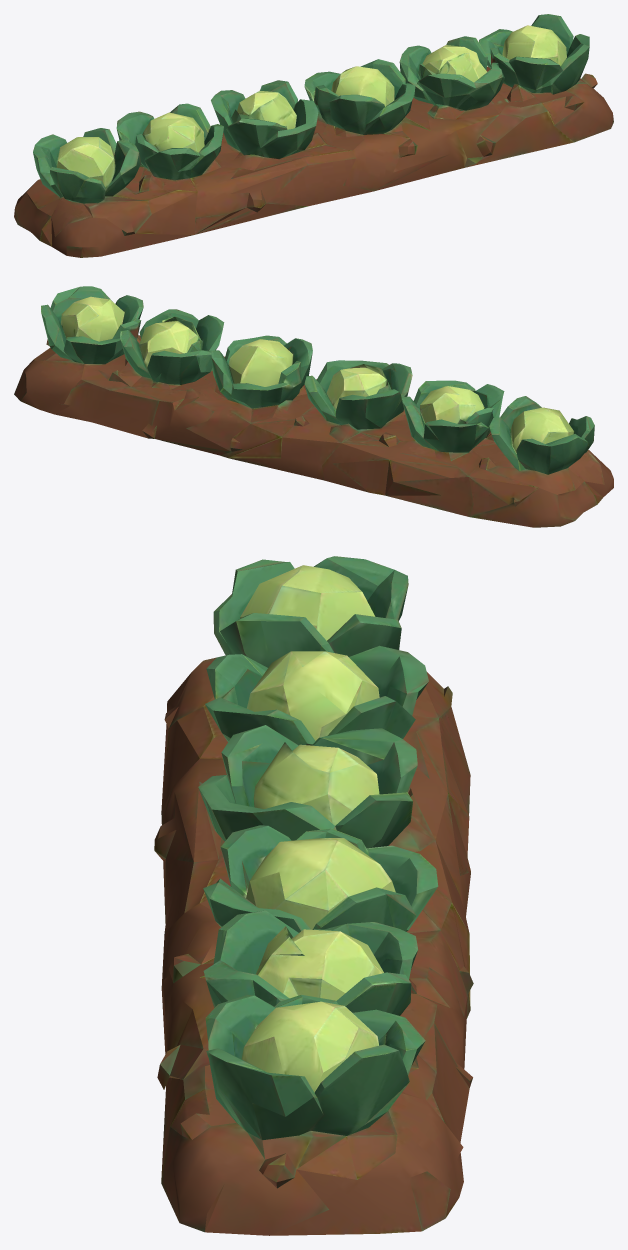
File: crop-cabbage.glb
3 views of the same model, one above another, from view 1: azimuth 30°, elevation 25°; view 2: azimuth 150°, elevation 25°; view 3: azimuth 270°, elevation 25° (orthographic). The views are drawn at different scales.
Parts seen in each view (by area): view 1: crop-cabbage-fit; view 2: crop-cabbage-fit; view 3: crop-cabbage-fit.
Part boxes in pixels (<box>): crop-cabbage-fit: <box>14,14,613,257</box>; crop-cabbage-fit: <box>14,286,613,527</box>; crop-cabbage-fit: <box>154,556,473,1235</box>.
Size of the model in its own units: 2.69 by 0.4 by 0.668.
1 material, 1 textured.
